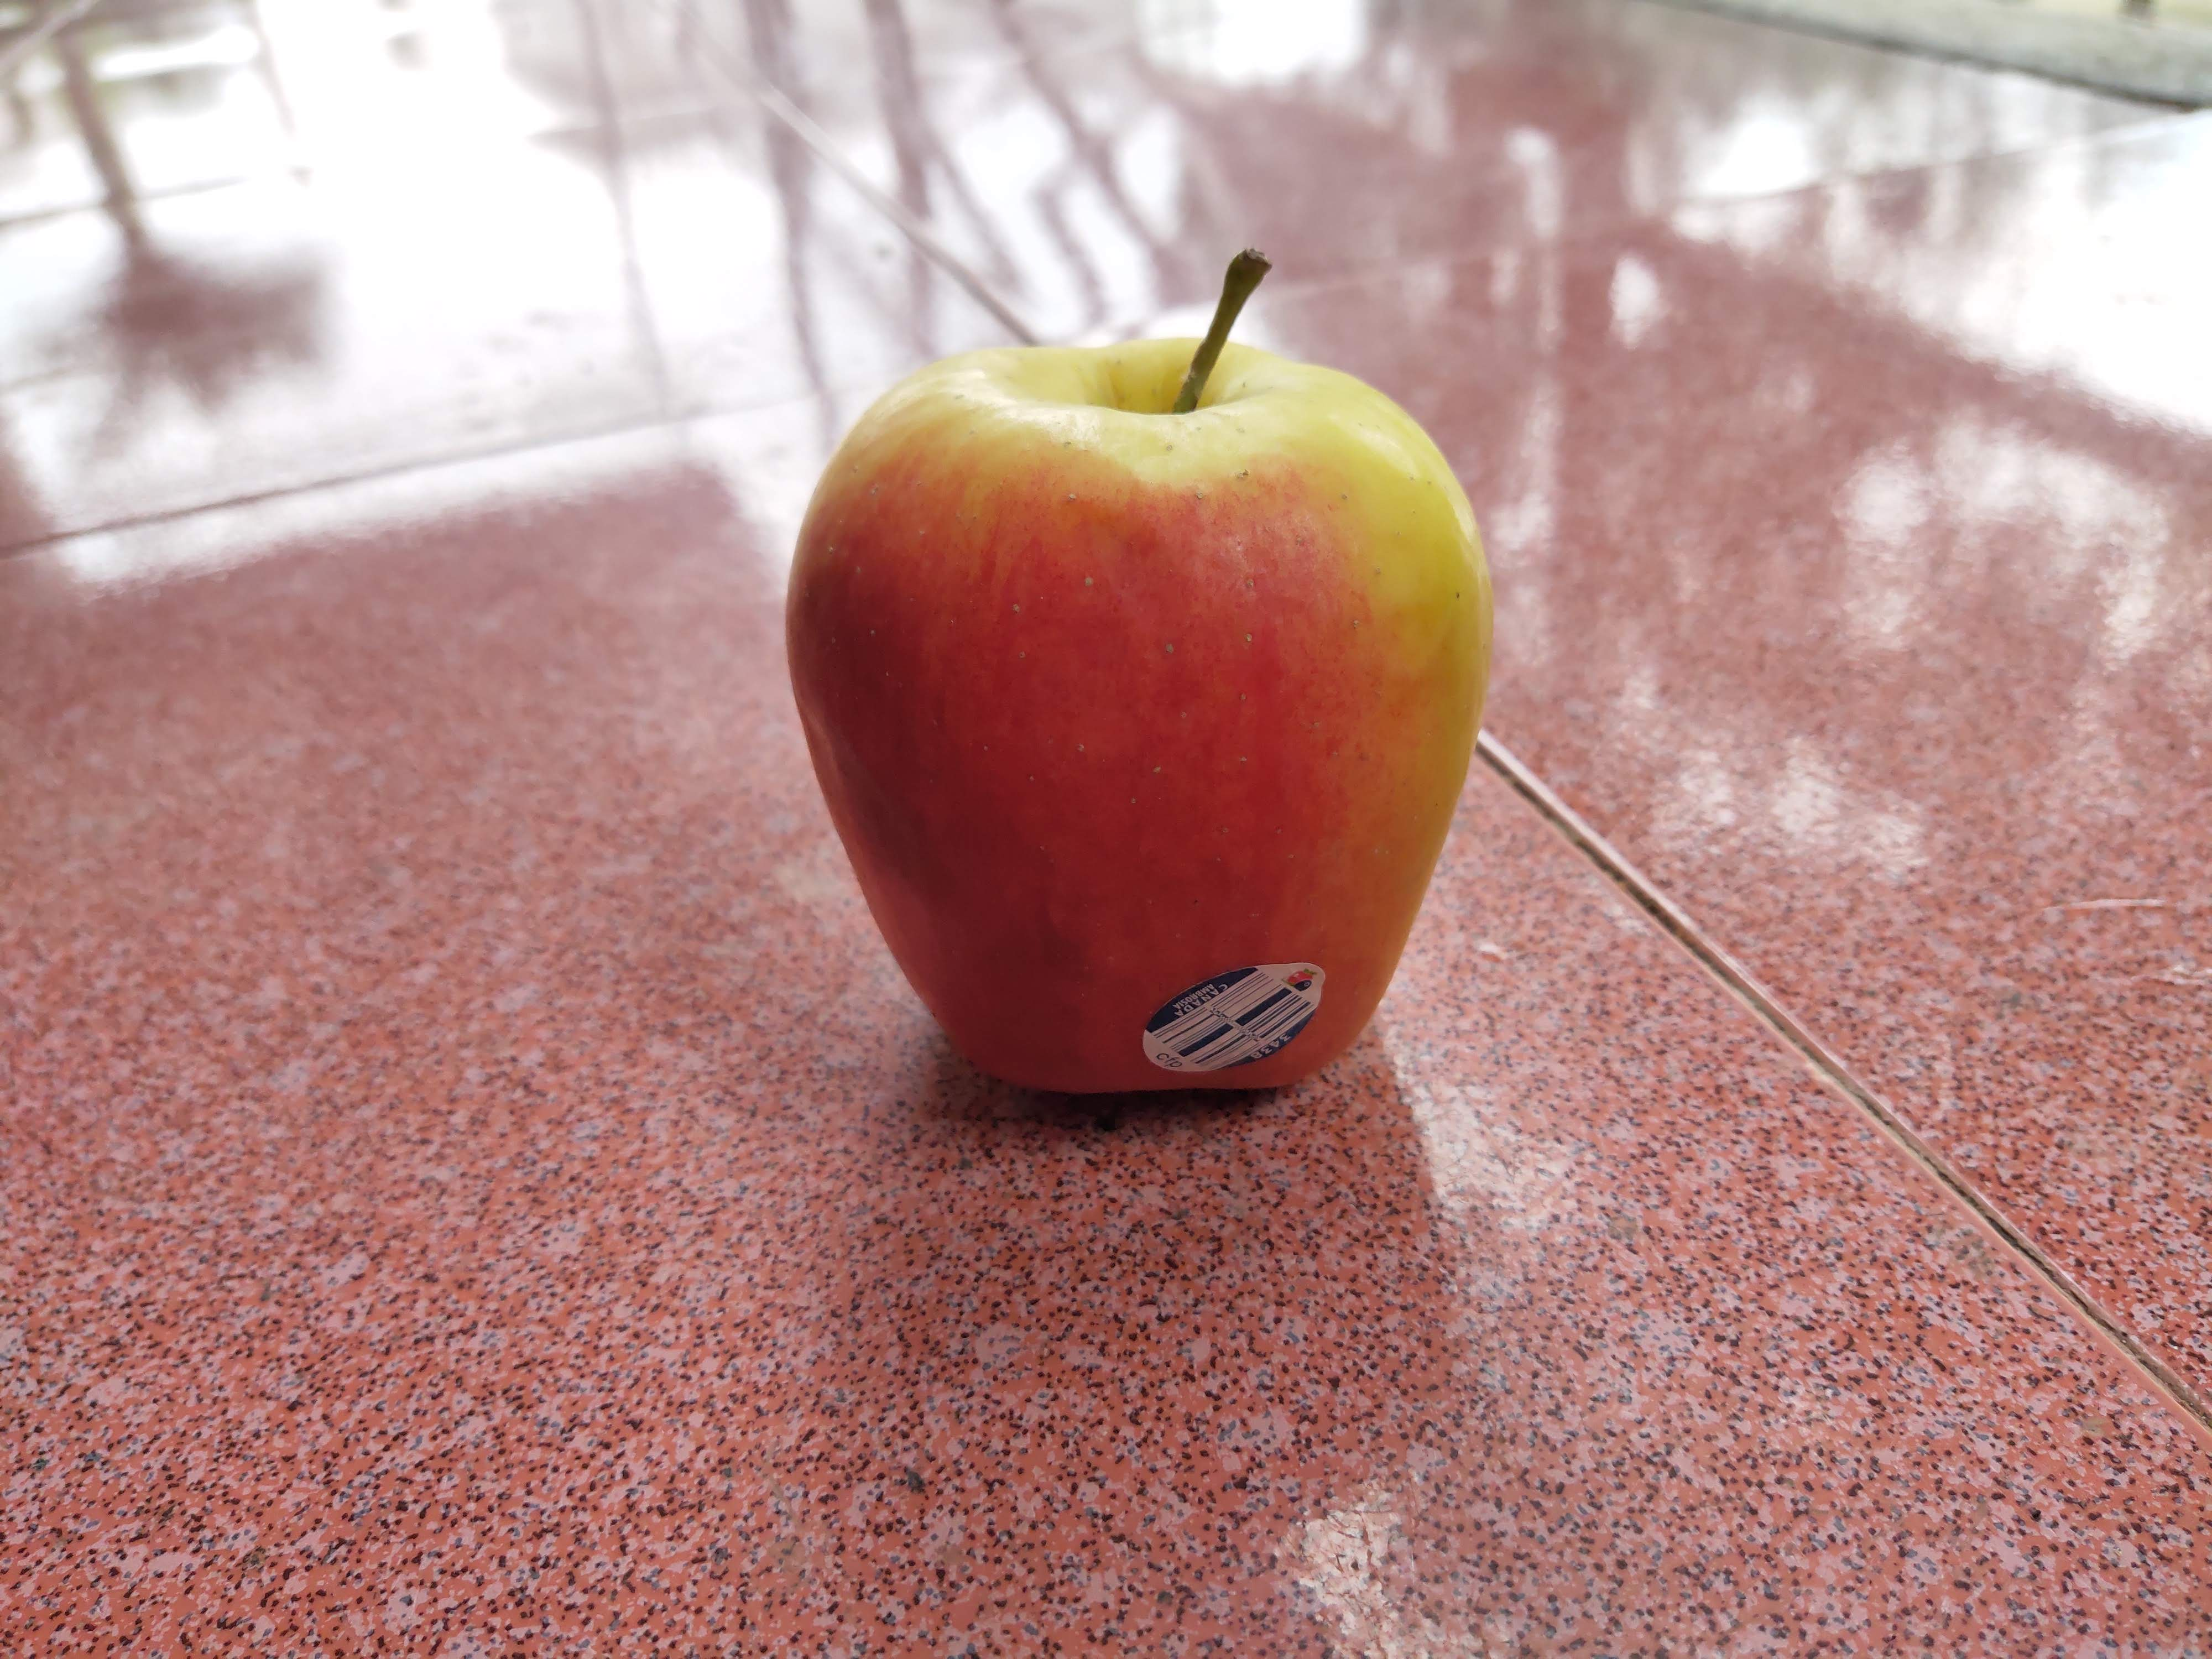apple: (775, 267, 1507, 1101)
